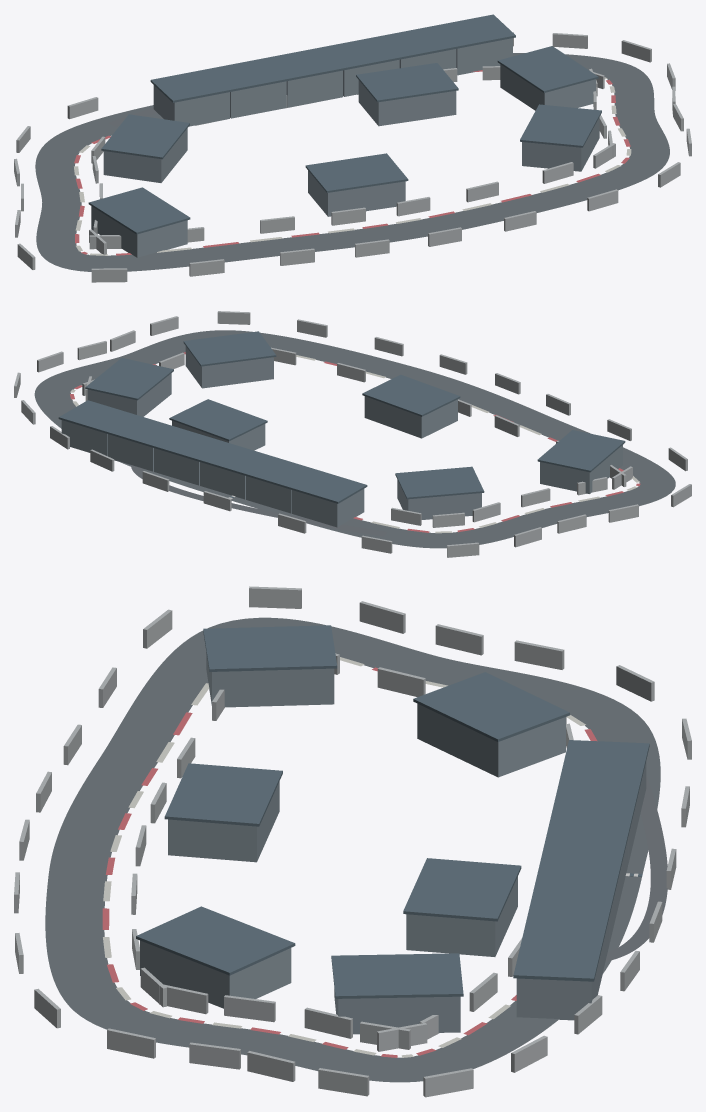
3 renders of one model, top to bottom at view 1: azimuth 30°, elevation 25°; view 2: azimuth 150°, elevation 25°; view 3: azimuth 270°, elevation 25°, orthographic. The views are drawn at different scales.
Parts seen in each view (by area): view 1: asphalt, grandstand_roof_3, grandstand_roof_0, grandstand_roof_4, grandstand_roof_1, grandstand_roof_5, grandstand_roof_2, grandstand_0, grandstand_3, grandstand_4, grandstand_5, grandstand_1 (+28 smaller); view 2: asphalt, grandstand_roof_0, grandstand_roof_3, grandstand_roof_2, grandstand_roof_5, grandstand_roof_4, grandstand_roof_1, grandstand_3, grandstand_2, pit_building_0, grandstand_4, grandstand_5 (+31 smaller); view 3: asphalt, grandstand_roof_2, grandstand_roof_5, grandstand_roof_4, grandstand_roof_1, grandstand_roof_3, grandstand_roof_0, grandstand_5, grandstand_2, grandstand_4, grandstand_3, grandstand_0 (+25 smaller).
Part boxes in pixels (x1=…): asphalt: x1=35, y1=53, x2=669, y2=271; grandstand_roof_3: x1=305, y1=153, x2=408, y2=192; grandstand_roof_0: x1=356, y1=63, x2=458, y2=102; grandstand_roof_4: x1=88, y1=187, x2=190, y2=234; grandstand_roof_1: x1=497, y1=46, x2=598, y2=92; grandstand_roof_5: x1=101, y1=114, x2=189, y2=159; grandstand_roof_2: x1=520, y1=104, x2=601, y2=147; grandstand_0: x1=358, y1=80, x2=456, y2=126; grandstand_3: x1=308, y1=170, x2=405, y2=216; grandstand_4: x1=91, y1=206, x2=187, y2=257; grandstand_5: x1=103, y1=128, x2=187, y2=182; grandstand_1: x1=500, y1=64, x2=595, y2=110; asphalt: x1=34, y1=330, x2=675, y2=548; grandstand_roof_0: x1=169, y1=399, x2=267, y2=441; grandstand_roof_3: x1=362, y1=374, x2=460, y2=416; grandstand_roof_2: x1=183, y1=331, x2=276, y2=366; grandstand_roof_5: x1=395, y1=466, x2=484, y2=499; grandstand_roof_4: x1=537, y1=430, x2=625, y2=472; grandstand_roof_1: x1=85, y1=358, x2=173, y2=400; grandstand_3: x1=364, y1=396, x2=457, y2=438; grandstand_2: x1=185, y1=346, x2=273, y2=388; pit_building_0: x1=292, y1=489, x2=364, y2=527; grandstand_4: x1=540, y1=445, x2=622, y2=493; grandstand_5: x1=397, y1=479, x2=481, y2=519; asphalt: x1=45, y1=617, x2=660, y2=1082; grandstand_roof_2: x1=136, y1=906, x2=295, y2=975; grandstand_roof_5: x1=413, y1=672, x2=569, y2=741; grandstand_roof_4: x1=203, y1=625, x2=337, y2=671; grandstand_roof_1: x1=331, y1=953, x2=463, y2=998; grandstand_roof_3: x1=164, y1=763, x2=282, y2=826; grandstand_roof_0: x1=403, y1=858, x2=521, y2=921; grandstand_5: x1=417, y1=703, x2=565, y2=777; grandstand_2: x1=140, y1=940, x2=291, y2=1008; grandstand_4: x1=206, y1=653, x2=334, y2=707; grandstand_3: x1=168, y1=781, x2=279, y2=862; grandstand_0: x1=406, y1=876, x2=517, y2=956.
Size of the model in its own units: 61.83 by 2.64 by 35.99.
